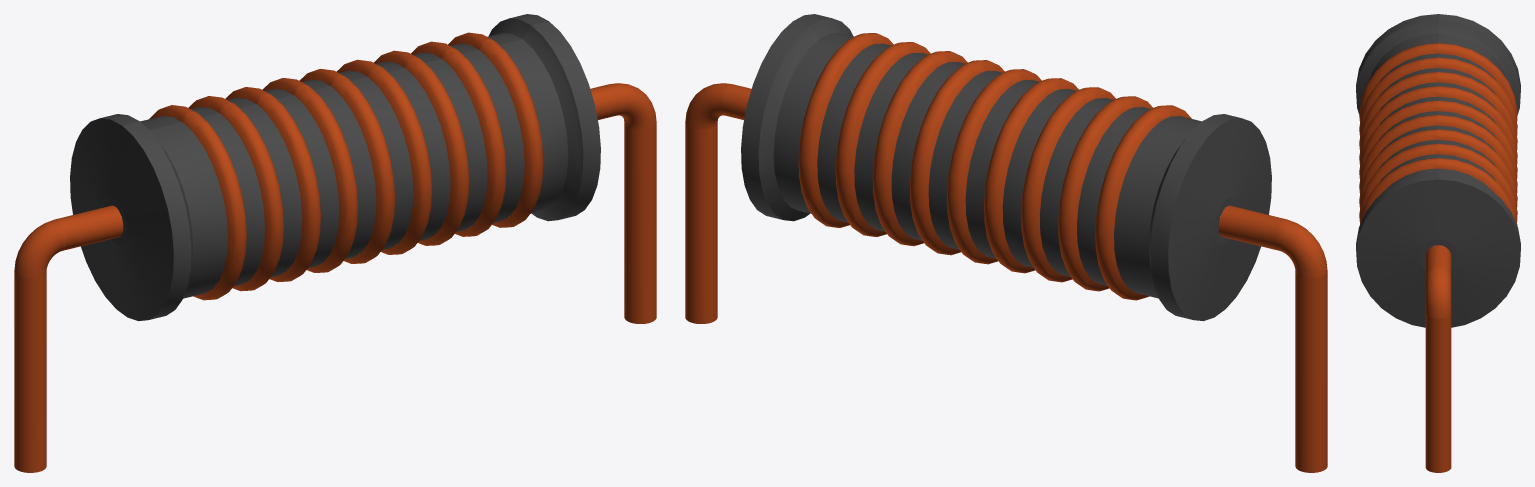
The model's file is kc-l_axial_l11.0mm_d4.5mm_p15.24mm_horizontal_fastron_mecc.glb.
3 renders of one model, left to right at view 1: azimuth 30°, elevation 25°; view 2: azimuth 150°, elevation 25°; view 3: azimuth 270°, elevation 25°, orthographic. The views are drawn at different scales.
Parts seen in each view (by area): view 1: 0.08333333333333333_0.08333333333333333_0.08333333333333333_, 0.4166666666666667_0.08333333333333333_0_0; view 2: 0.08333333333333333_0.08333333333333333_0.08333333333333333_, 0.4166666666666667_0.08333333333333333_0_0; view 3: 0.08333333333333333_0.08333333333333333_0.08333333333333333_, 0.4166666666666667_0.08333333333333333_0_0.
Part boxes in pixels (box(x1,y1,x2,y2)): 0.08333333333333333_0.08333333333333333_0.08333333333333333_: box(70, 14, 600, 321); 0.4166666666666667_0.08333333333333333_0_0: box(14, 32, 656, 472); 0.08333333333333333_0.08333333333333333_0.08333333333333333_: box(741, 14, 1271, 321); 0.4166666666666667_0.08333333333333333_0_0: box(685, 33, 1327, 472); 0.08333333333333333_0.08333333333333333_0.08333333333333333_: box(1356, 14, 1520, 327); 0.4166666666666667_0.08333333333333333_0_0: box(1359, 43, 1517, 472).
Size of the model in its own units: 1.59 by 0.76 by 0.4493.
